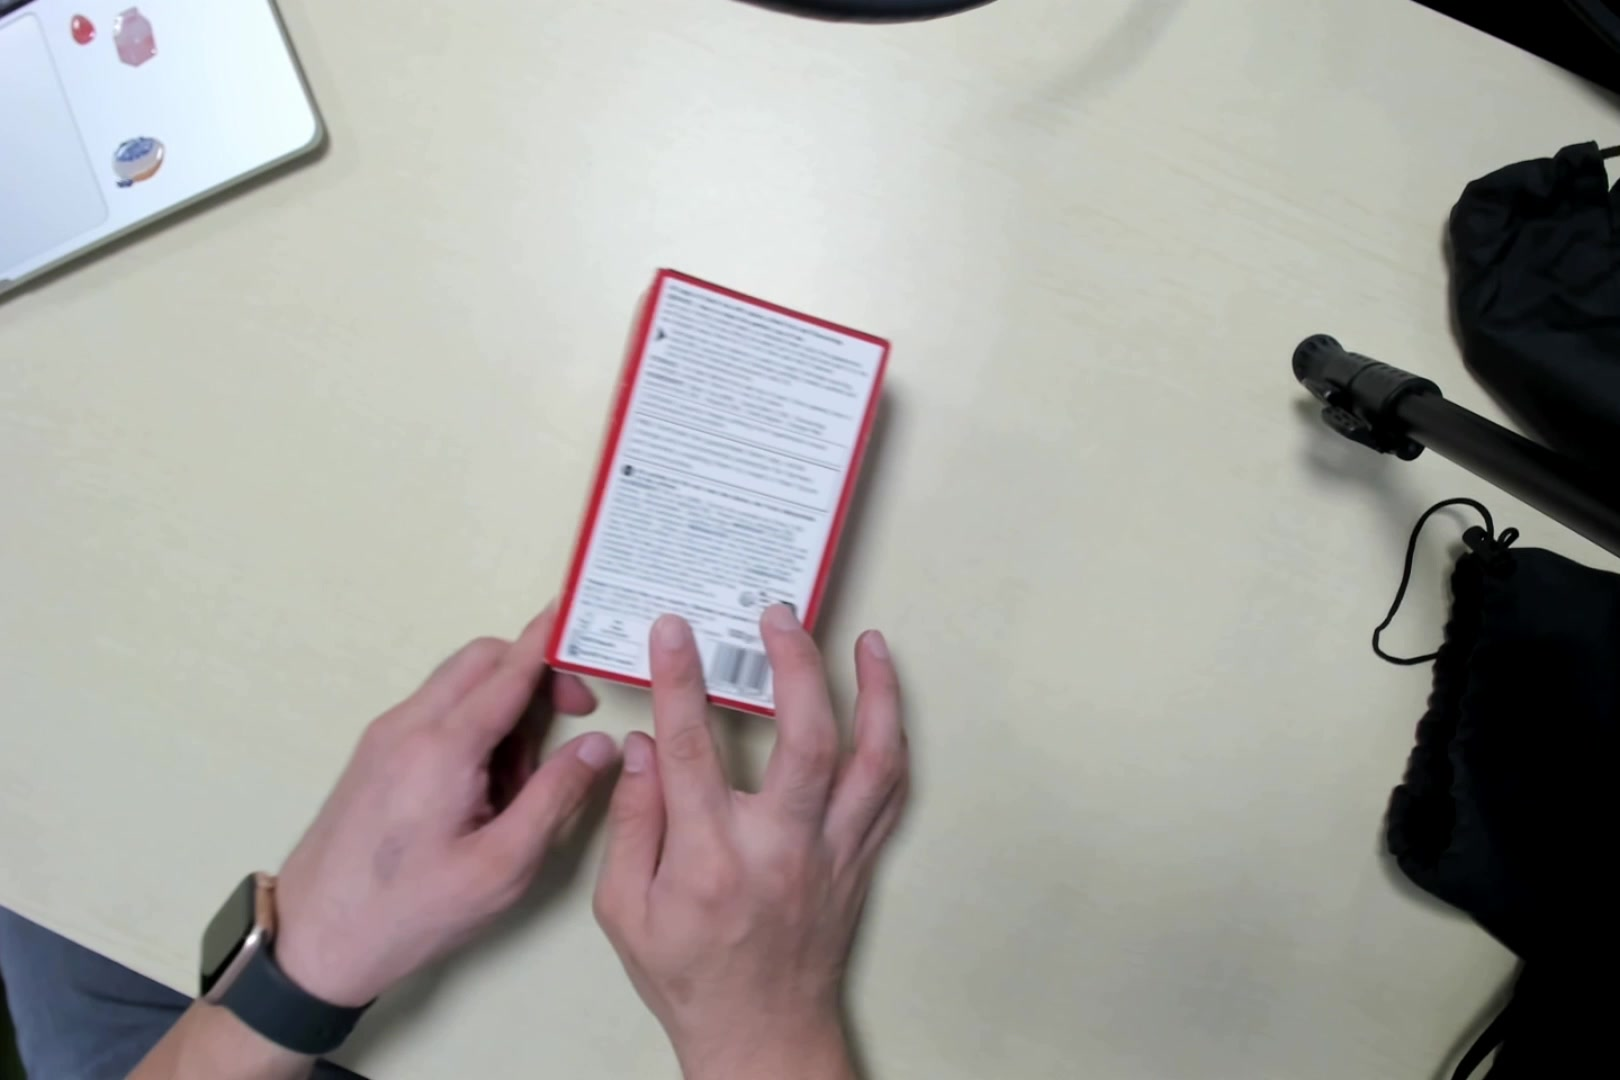Tea(PowderLeaves)_100-199g_Halal_NonHealthy: (545, 258, 880, 721)
